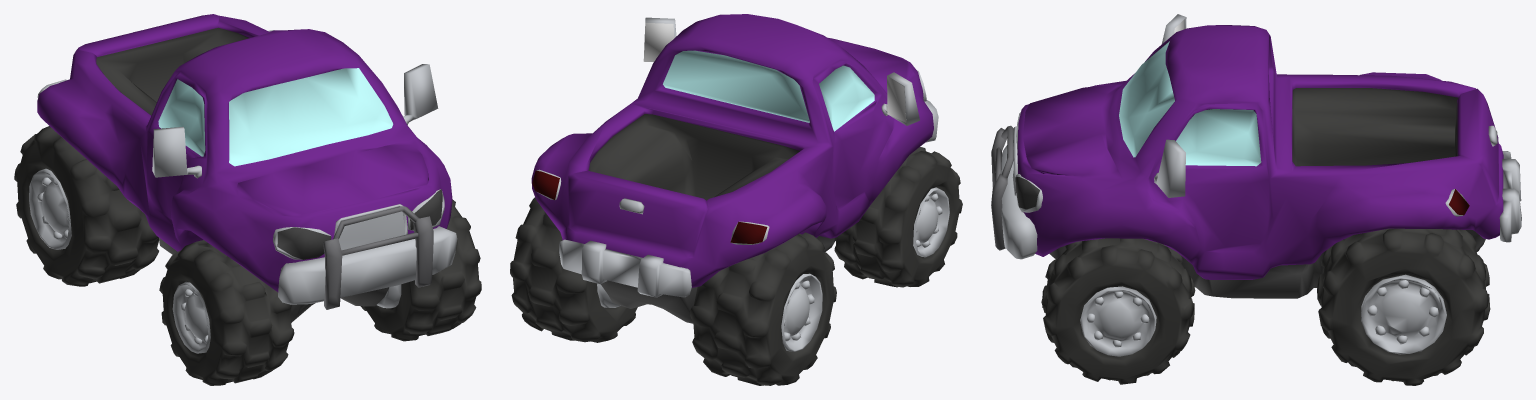
The model's file is pick_up.fbx.
The picture shows the model from 3 angles, left to right: view 1: azimuth 30°, elevation 25°; view 2: azimuth 150°, elevation 25°; view 3: azimuth 270°, elevation 25°; orthographic projection. The views are drawn at different scales.
Visible parts, largest first — view 1: pick-up; view 2: pick-up; view 3: pick-up.
Part boxes in pixels (bbox=[...]): pick-up: bbox=[14, 14, 481, 385]; pick-up: bbox=[510, 14, 962, 385]; pick-up: bbox=[991, 14, 1521, 385].
Bounding box in the file's own units: 300 × 271 × 470.
